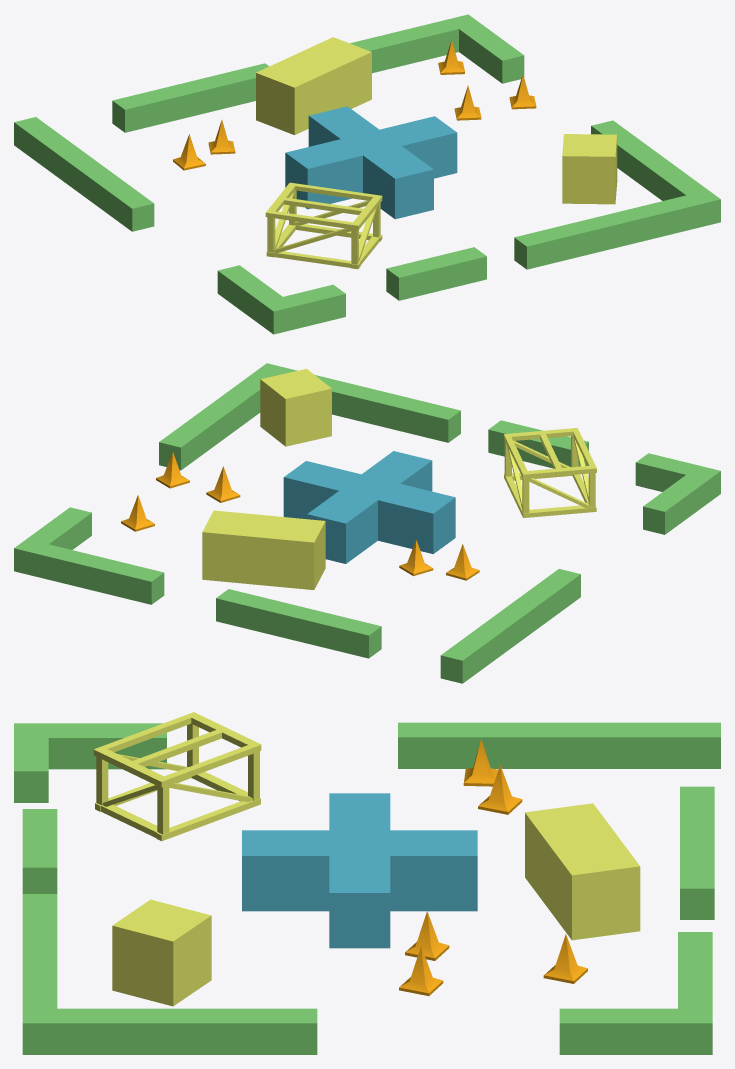
The model's file is BMark4.fbx.
The picture shows the model from 3 angles, top to bottom: view 1: azimuth 30°, elevation 25°; view 2: azimuth 150°, elevation 25°; view 3: azimuth 270°, elevation 25°; orthographic projection. The views are drawn at different scales.
Parts seen in each view (by area): view 1: BMark4; view 2: BMark4; view 3: BMark4.
Boxes of the visible parts, <box> form: BMark4: <box>14,14,720,334</box>; BMark4: <box>14,363,720,683</box>; BMark4: <box>14,712,720,1054</box>.
Bounding box in the file's own units: 261 × 32.91 × 259.
